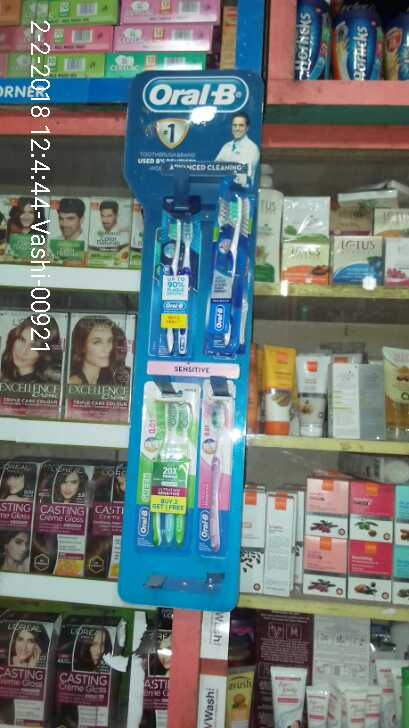oralb: (134, 378, 194, 551), (155, 206, 199, 360), (206, 193, 244, 361), (205, 377, 231, 561)
